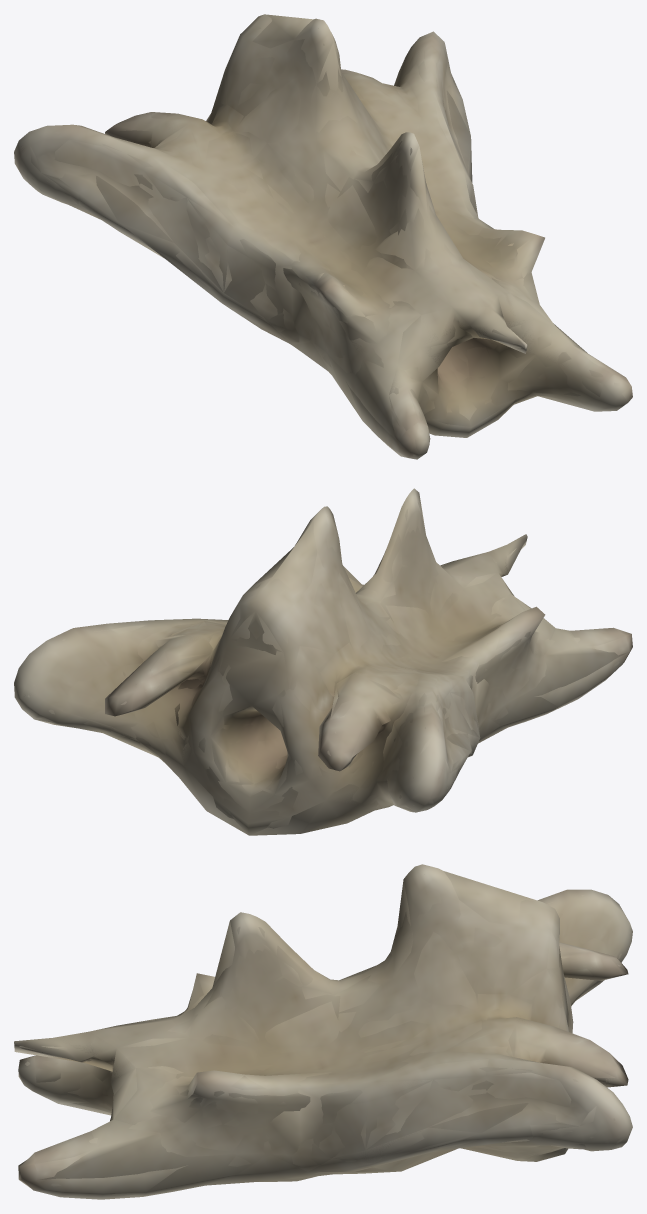
Rendered from Sacrum.fbx.
3 renders of one model, top to bottom at view 1: azimuth 30°, elevation 25°; view 2: azimuth 150°, elevation 25°; view 3: azimuth 270°, elevation 25°, orthographic.
Visible parts, largest first — view 1: Sacrum, Sacrum low, Sacrum high; view 2: Sacrum, Sacrum low, Sacrum high; view 3: Sacrum, Sacrum low, Sacrum high.
Boxes of the visible parts, x1,y1,x2,y2 form: Sacrum: (14, 14, 632, 459); Sacrum low: (17, 14, 631, 453); Sacrum high: (18, 26, 620, 455); Sacrum: (14, 488, 632, 835); Sacrum low: (24, 496, 628, 835); Sacrum high: (27, 502, 619, 828); Sacrum: (14, 864, 632, 1199); Sacrum low: (18, 871, 627, 1196); Sacrum high: (19, 874, 630, 1195).
Bounding box in the file's own units: 2.23 × 1.58 × 2.8.
1 material, 1 textured.
